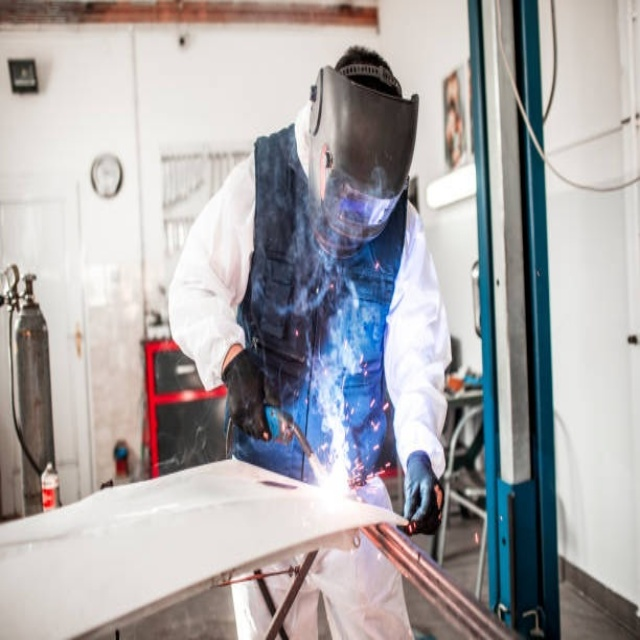Guantes: (222, 348, 271, 443), (404, 452, 444, 535)
